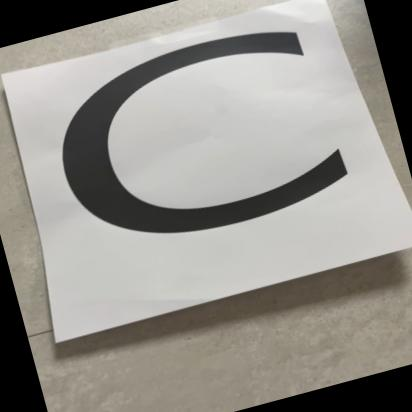seat: (5, 0, 404, 330)
